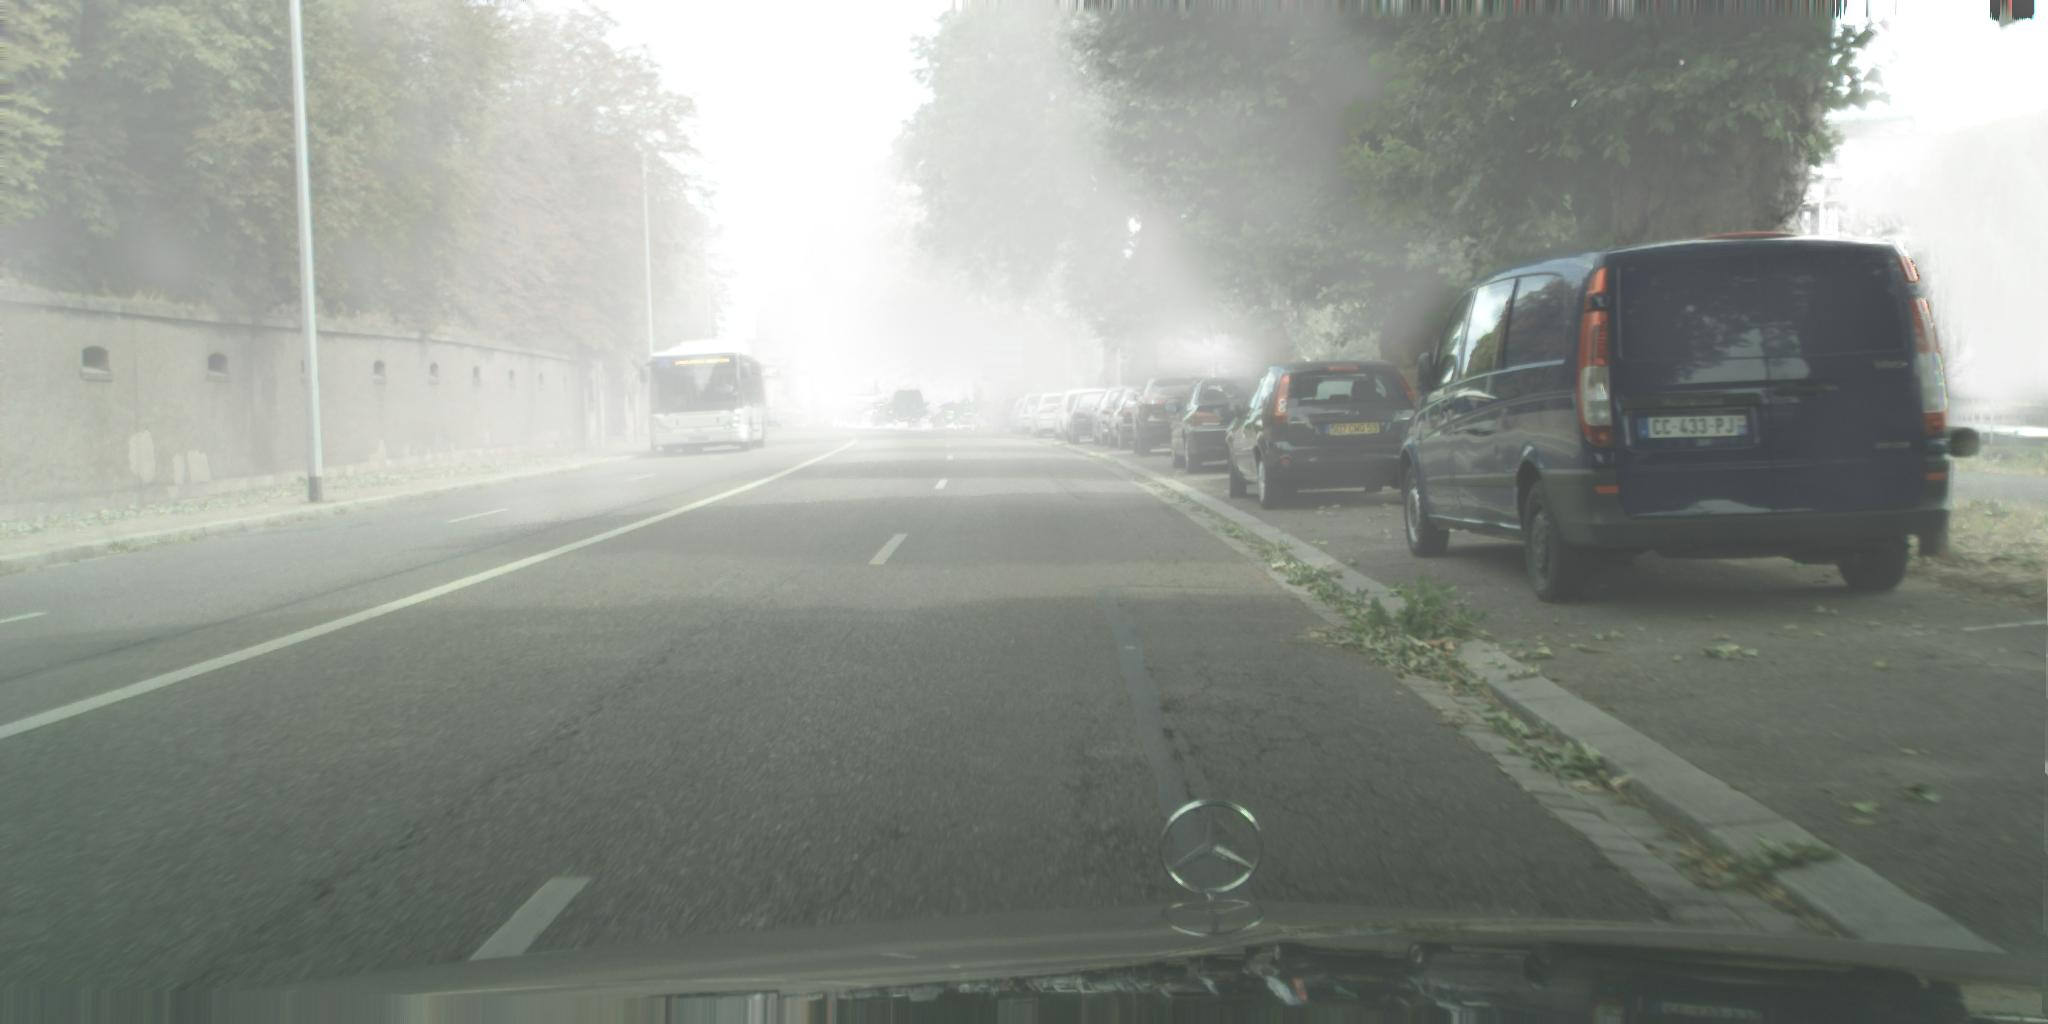bus: (639, 340, 769, 456)
car: (1396, 232, 1953, 603), (1226, 359, 1428, 509), (1166, 376, 1281, 475), (1126, 374, 1226, 457), (1091, 387, 1147, 448), (1051, 391, 1112, 445), (1106, 388, 1155, 451), (1066, 392, 1112, 445), (1006, 393, 1050, 435), (1032, 393, 1072, 439), (1016, 393, 1050, 435), (891, 391, 926, 430), (993, 396, 1028, 434), (953, 404, 993, 430), (972, 401, 1006, 431), (929, 404, 967, 430), (906, 408, 940, 431), (792, 411, 808, 428), (764, 417, 782, 428)
